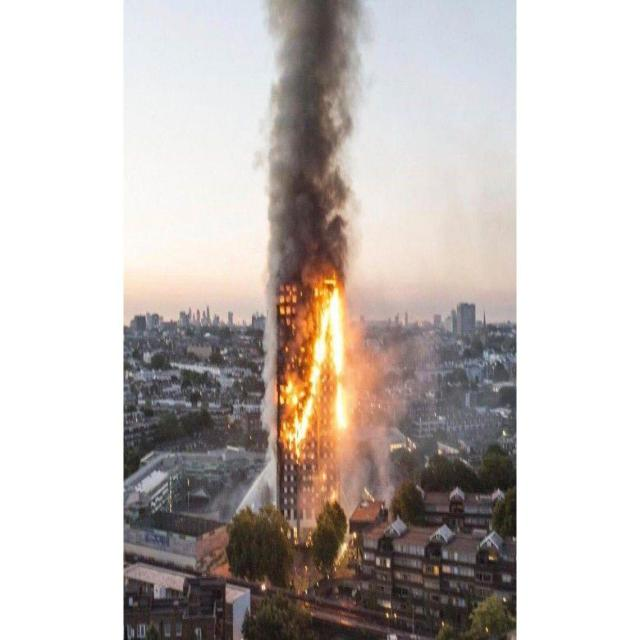Fire: (274, 248, 346, 506)
